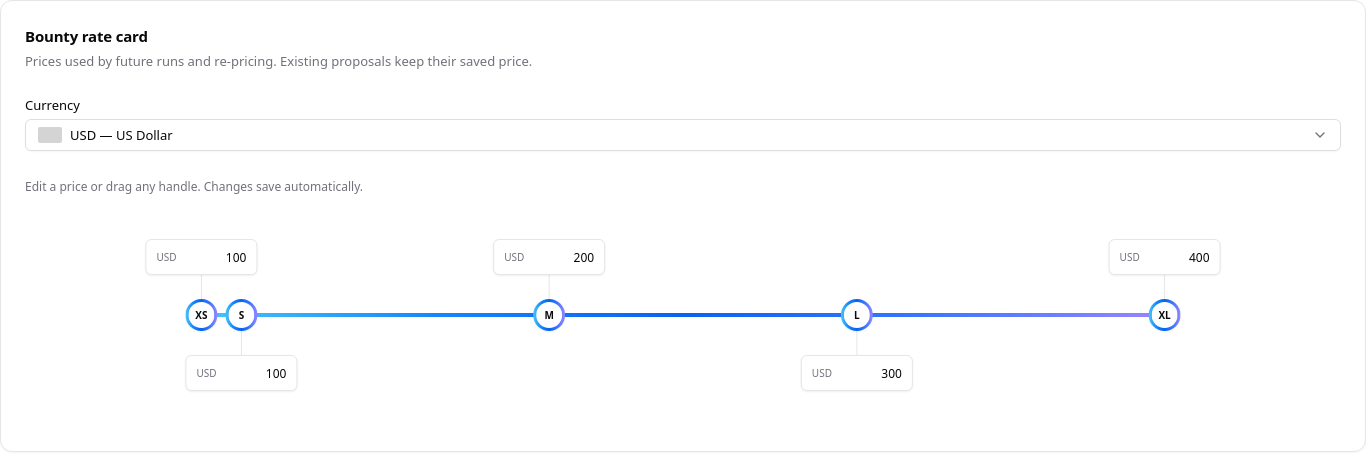
Scenario: endpoint rate 1.25 is rejected
Clear the field named "XS rate" at (214, 257), box x1=182 y1=240 x2=246 y2=274
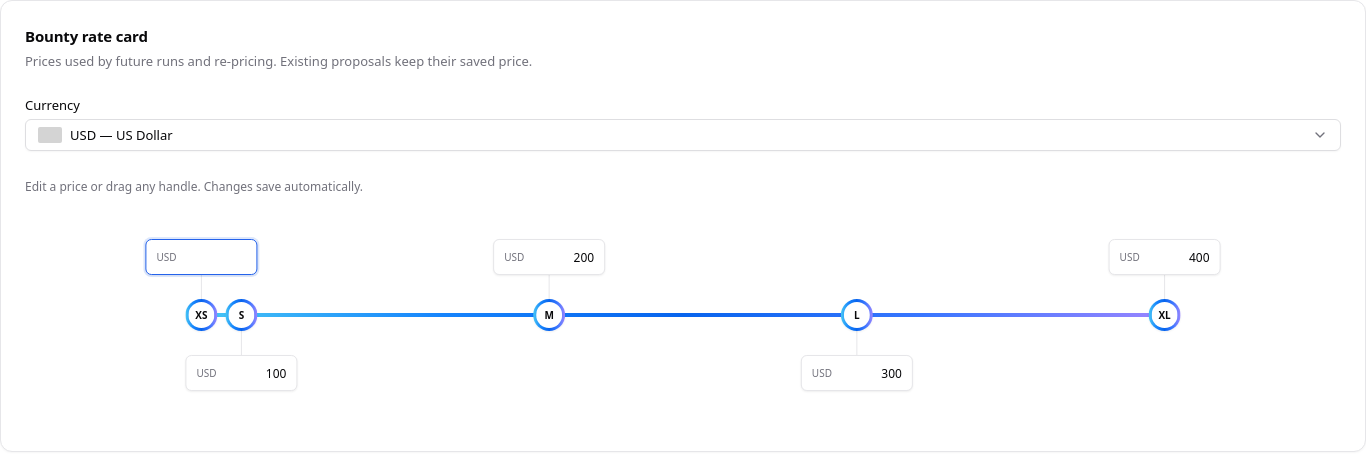
Type keys "1.25"
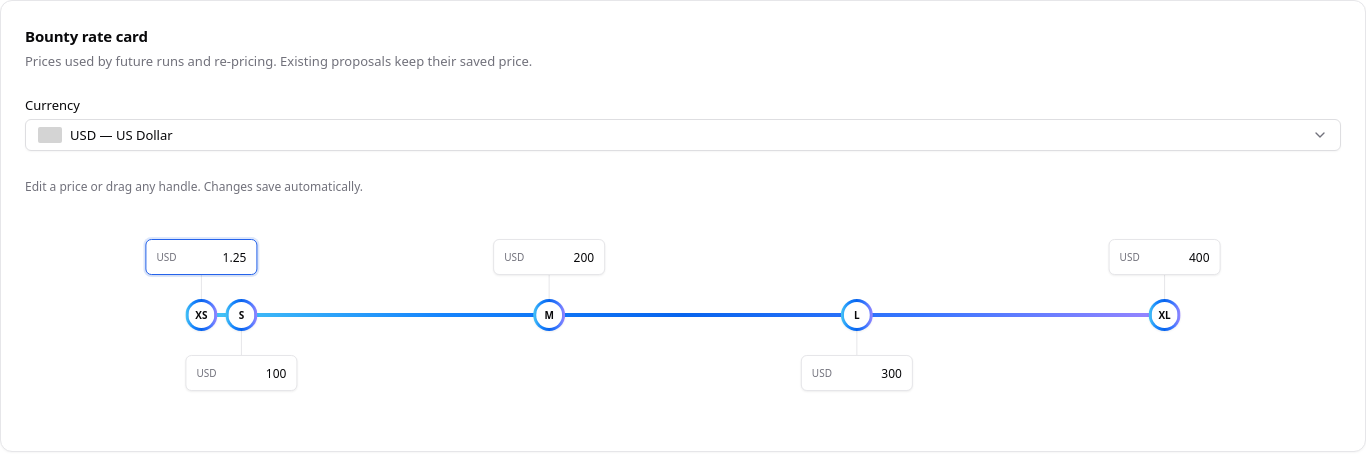
Press Enter
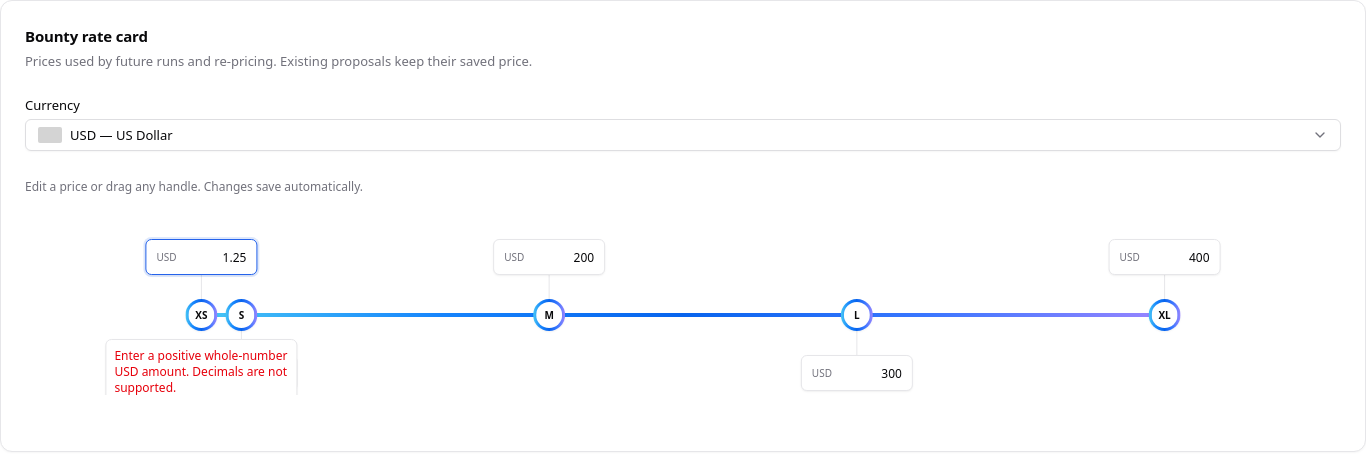
Expected: the slider named "XS rate" reads "XS", x1=185 y1=299 x2=217 y2=331
Now the message reads "Enter a positive whole-number USD amount. Decimals are not supported.", box x1=114 y1=347 x2=287 y2=395
